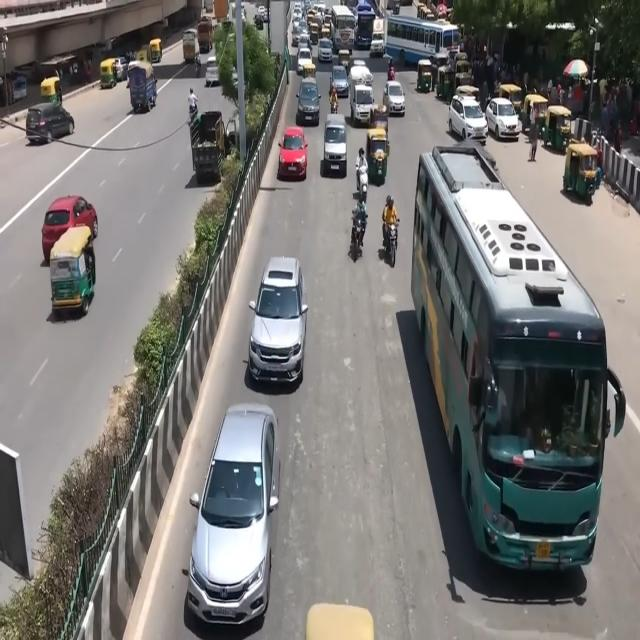auto: (49, 223, 97, 317), (562, 140, 600, 199), (366, 128, 389, 186), (349, 78, 375, 126), (454, 52, 473, 92), (370, 104, 389, 142), (40, 76, 62, 106), (417, 58, 434, 93), (100, 59, 118, 90), (182, 29, 198, 63), (308, 13, 321, 43), (149, 38, 162, 64), (338, 49, 351, 73), (321, 20, 332, 41)
bike-auto: (382, 196, 399, 252), (350, 208, 367, 259), (355, 148, 369, 196), (188, 88, 198, 122), (329, 90, 339, 114), (387, 60, 395, 80), (194, 52, 201, 74)
